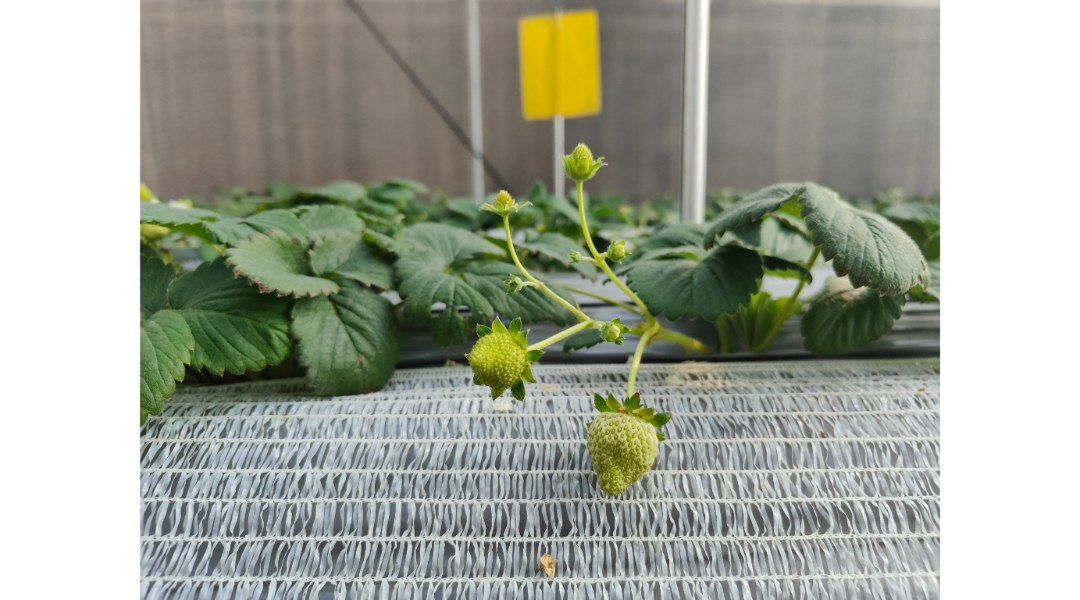berry: (581, 393, 666, 508), (455, 313, 538, 395), (557, 134, 603, 182), (478, 184, 535, 217), (661, 332, 711, 354), (596, 317, 627, 346), (602, 239, 632, 268), (498, 276, 529, 298), (566, 247, 583, 264)
strain: (625, 329, 653, 406), (528, 325, 580, 357), (571, 189, 598, 244), (616, 281, 655, 310), (545, 290, 583, 318), (502, 226, 522, 265)
